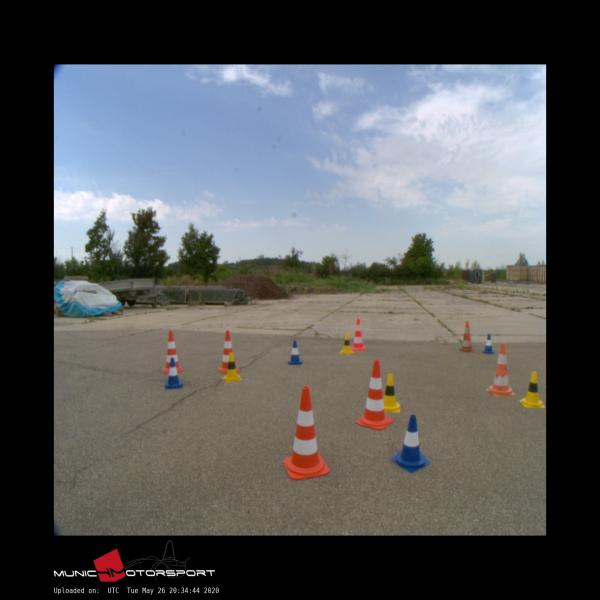blue_cone: (390, 414, 430, 471), (164, 357, 183, 388), (287, 340, 302, 364), (482, 334, 494, 353)
large_orange_cone: (283, 386, 329, 480), (355, 360, 392, 430), (486, 342, 514, 395), (162, 331, 183, 372), (217, 330, 238, 371), (352, 318, 366, 350), (459, 320, 473, 352)
yellow_cone: (519, 370, 544, 408), (381, 374, 400, 412), (222, 352, 243, 381), (339, 334, 353, 354)
